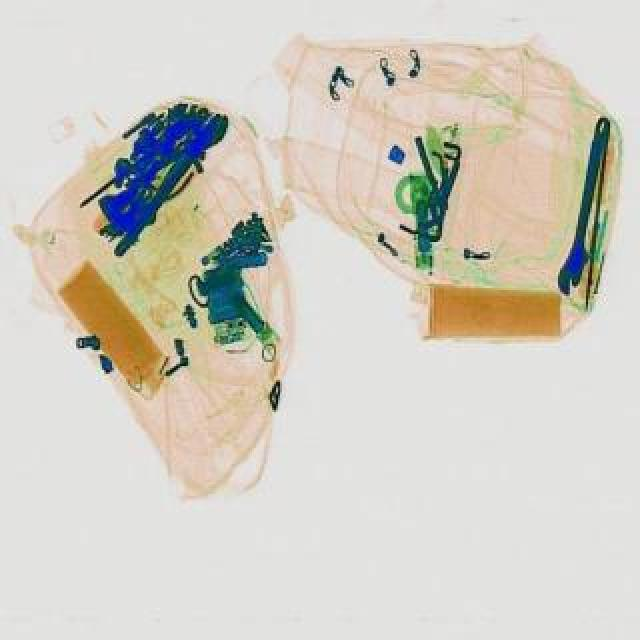scissors: (106, 110, 234, 268), (552, 116, 620, 300)
